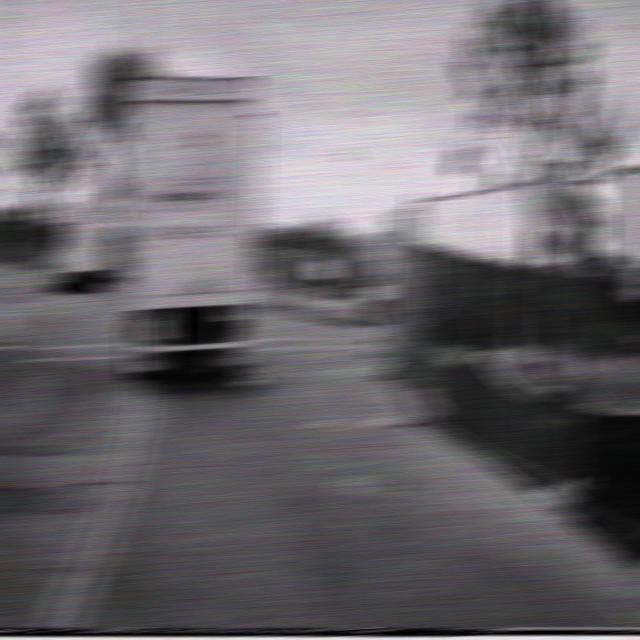stop: (519, 153, 569, 233)
